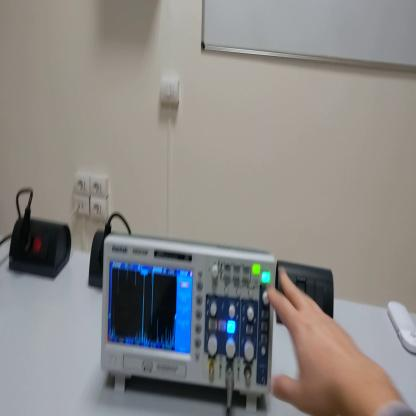hand: (265, 267, 379, 415)
oscilloscope: (100, 239, 275, 416)
socket: (12, 218, 72, 281), (89, 229, 111, 289)
